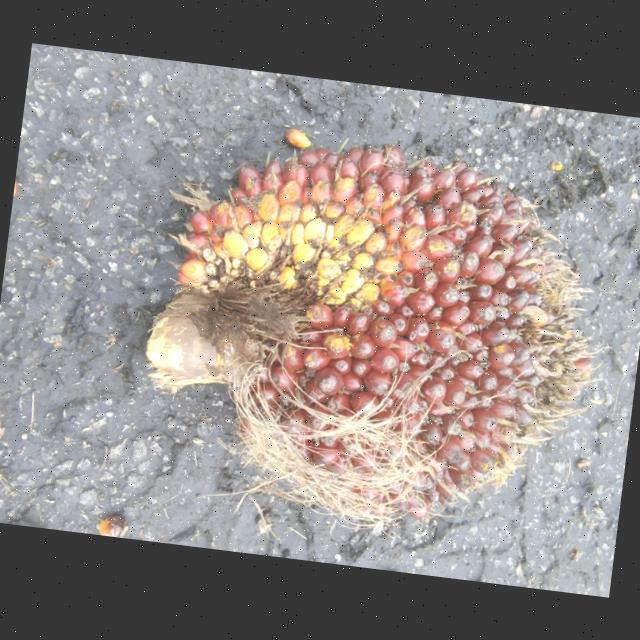Ripe: (147, 147, 590, 523)
